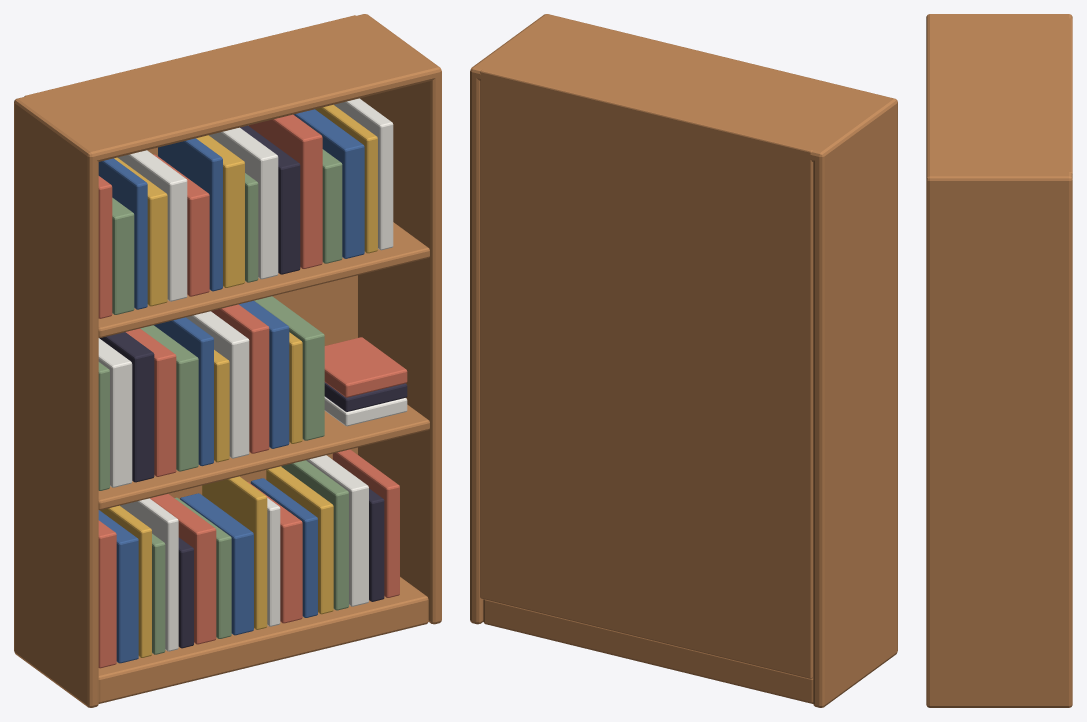
File: hh_cat_bookshelf_v.glb
The picture shows the model from 3 angles, left to right: view 1: azimuth 30°, elevation 25°; view 2: azimuth 150°, elevation 25°; view 3: azimuth 270°, elevation 25°; orthographic projection. The views are drawn at different scales.
Visible parts, largest first — view 1: side, top, side.001, plinth, shelf, shelf.001, back, book.044, book.042, book.046, book.006, book.037 (+44 smaller); view 2: back, side, top, plinth, side.001; view 3: side.001, top, back, side.
Boxes of the visible parts, x1,y1,x2,y2 form: side: (14,97,98,707); top: (14,14,441,161); side.001: (358,14,441,624); plinth: (98,577,428,703); shelf: (98,404,429,510); shelf.001: (98,222,429,337); back: (24,15,357,498); book.044: (248,114,322,268); book.042: (209,127,278,279); book.046: (293,109,364,258); book.006: (150,494,216,644); book.037: (117,150,187,301); back: (480,69,813,678); side: (813,97,897,707); top: (470,14,897,161); plinth: (483,599,813,703); side.001: (470,14,550,624); side.001: (926,174,1072,707); top: (926,14,1072,185); back: (1068,18,1072,174); side: (926,14,1072,18).
Bounding box in the file's own units: 0.8 × 1.2 × 0.3.
